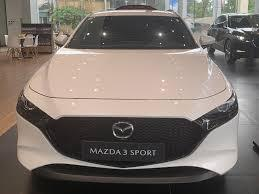mazda: (109, 116, 136, 140)
